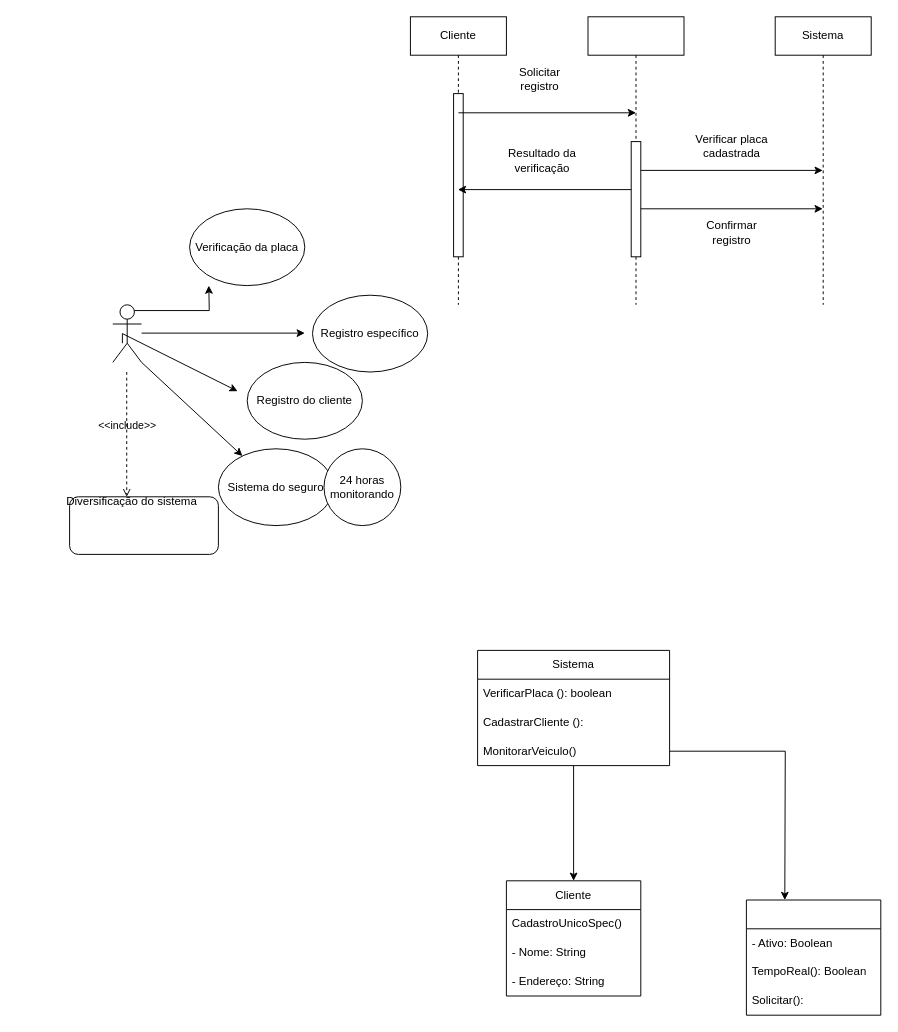
Image size: 898x1032. Some labels were removed from this diagram. Here are the shapes that lost their labels. From the top down, the box of each, then its label:
(587, 16, 684, 305): App
(112, 304, 142, 362): Actor
(69, 496, 218, 554): IOS, WINDOWS, ANDROID
(745, 899, 881, 1015): VigilânciaGPS
